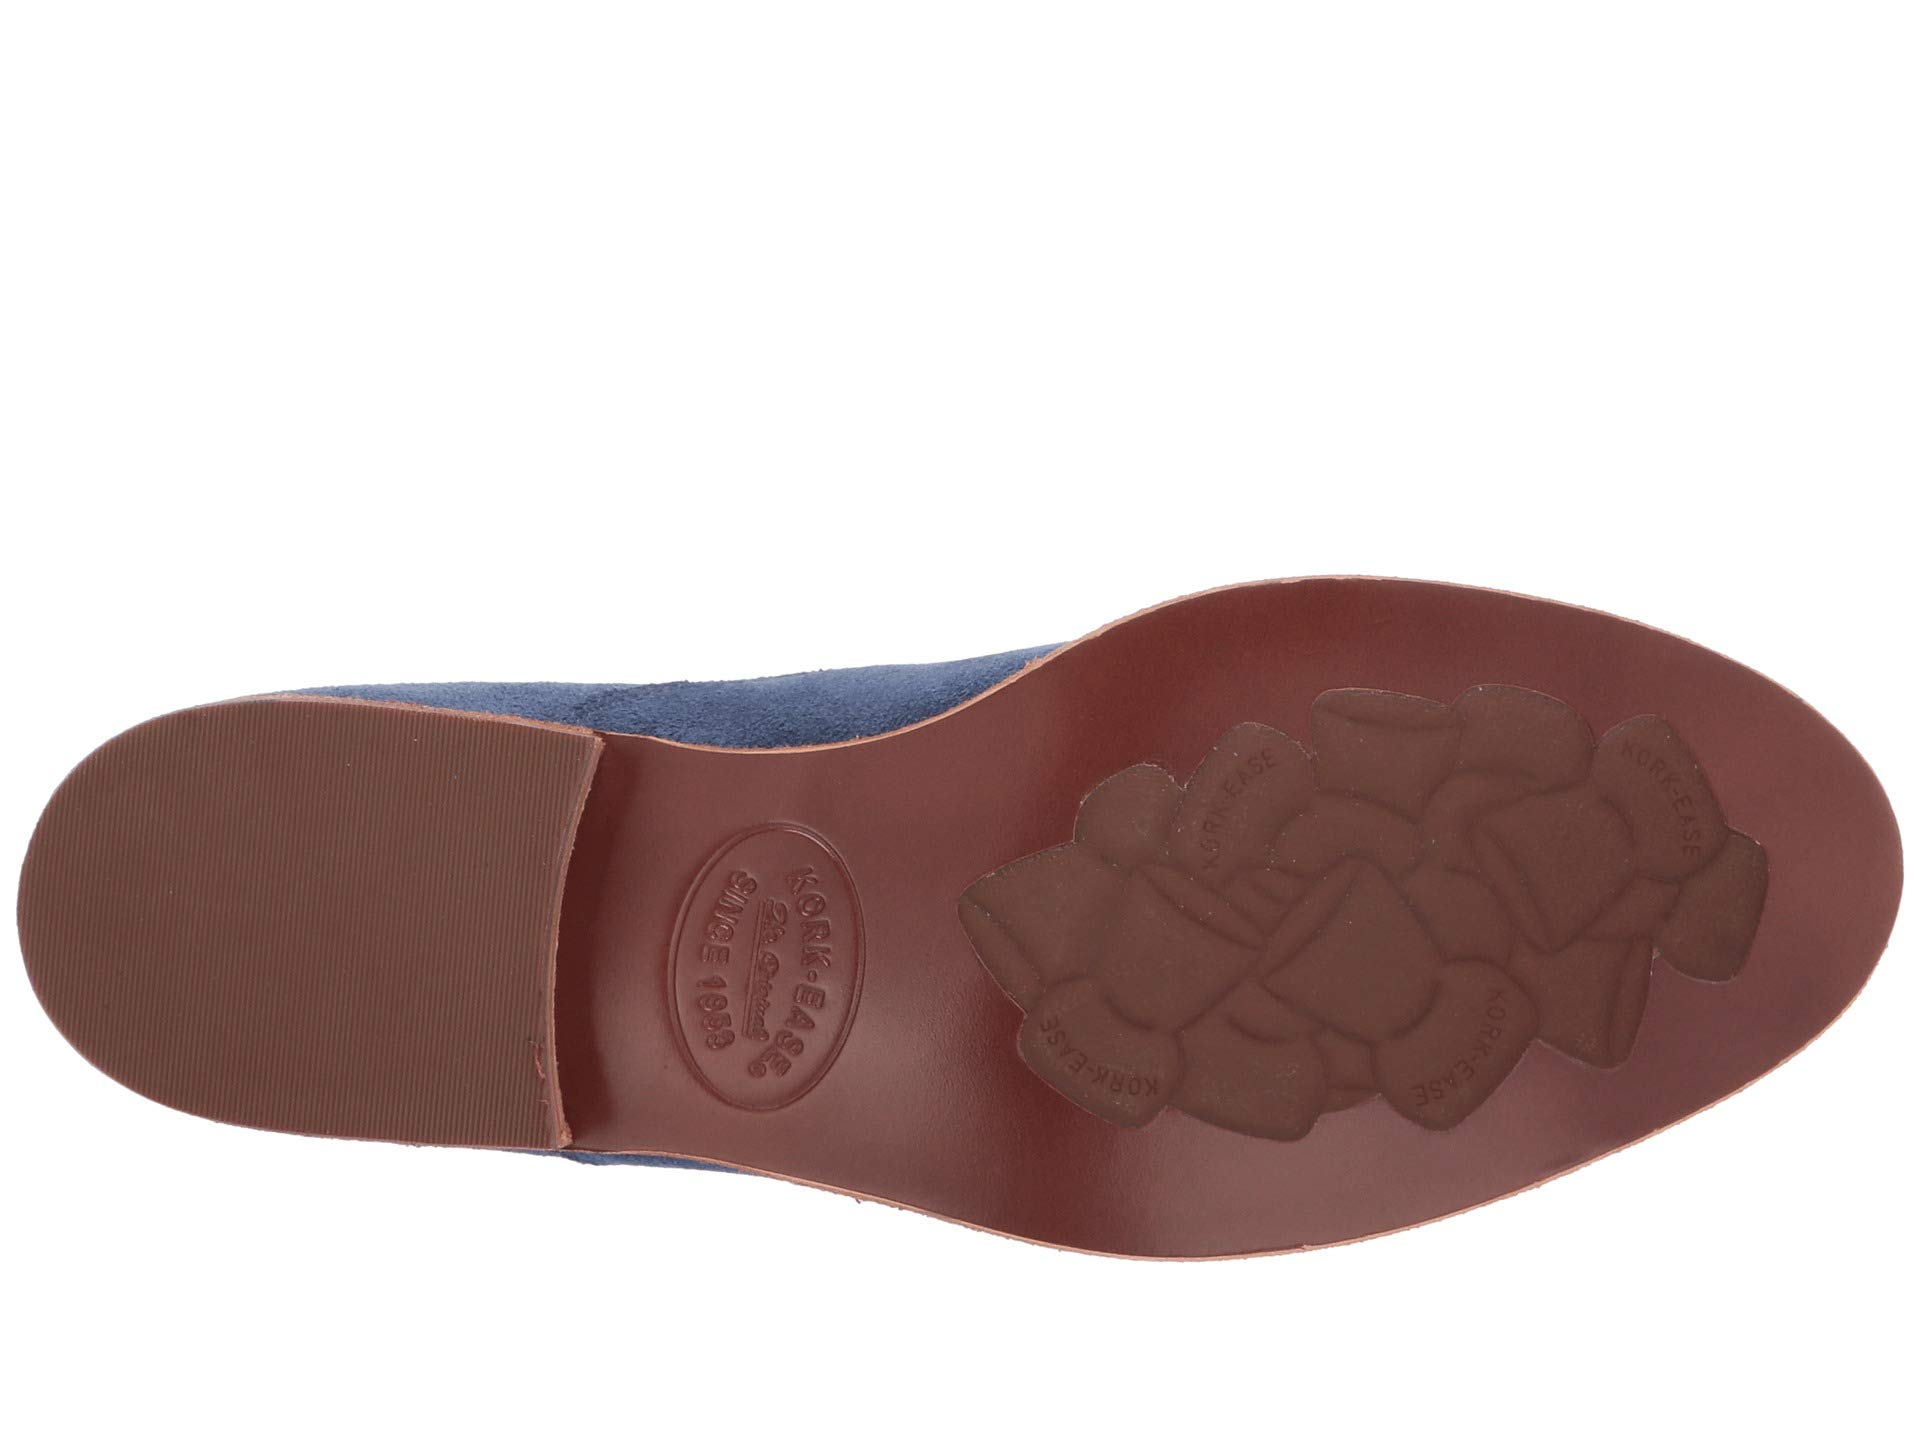bowtie: (1143, 711, 1562, 1144)
circle: (584, 797, 949, 1133)
text: (584, 797, 949, 1133)
